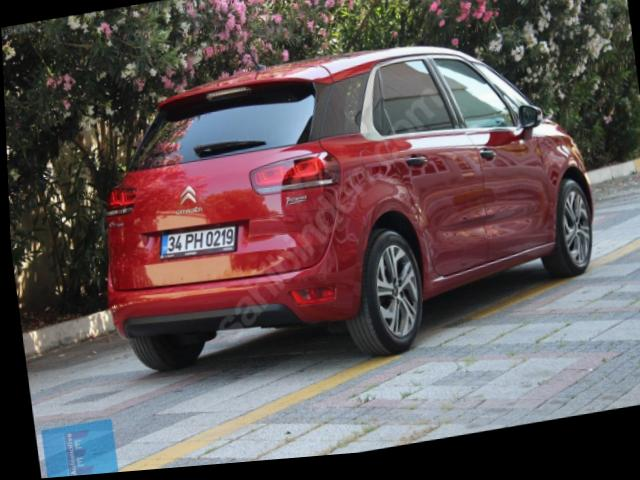plaka: (160, 225, 235, 258)
